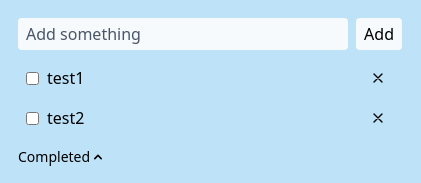
should allow removing, adding and then removing a todo
The width and height of the screenshot is (421, 183).
Click the button named "remove" in the row of "test1" at (378, 78), box [370,70,386,86]
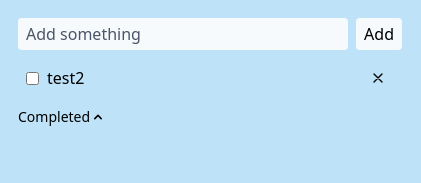
Type "new todo" into the field with placeholder "Add something" at (183, 34), box [18,18,348,50]
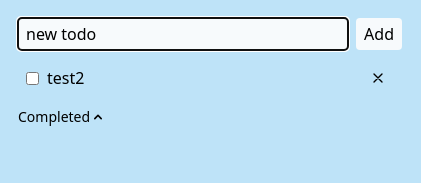
Click the button "Add" at (379, 34), box [356,18,402,50]
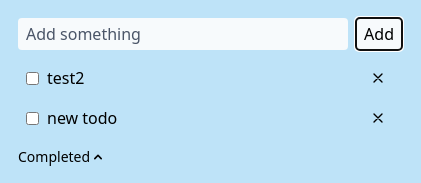
Click the button named "remove" in the row of "test2" at (378, 78), box [370,70,386,86]
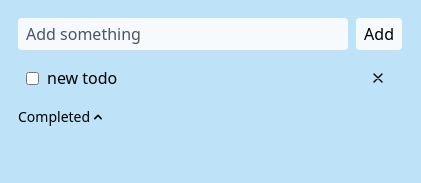
Check: the text "test1" is not shown
Check: the text "new todo" is shown, box [47,67,117,89]
Check: the text "test2" is gone
